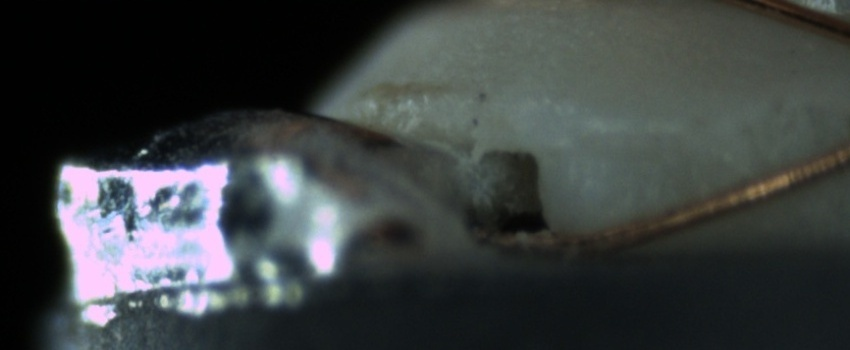DL: (571, 106, 713, 175)
